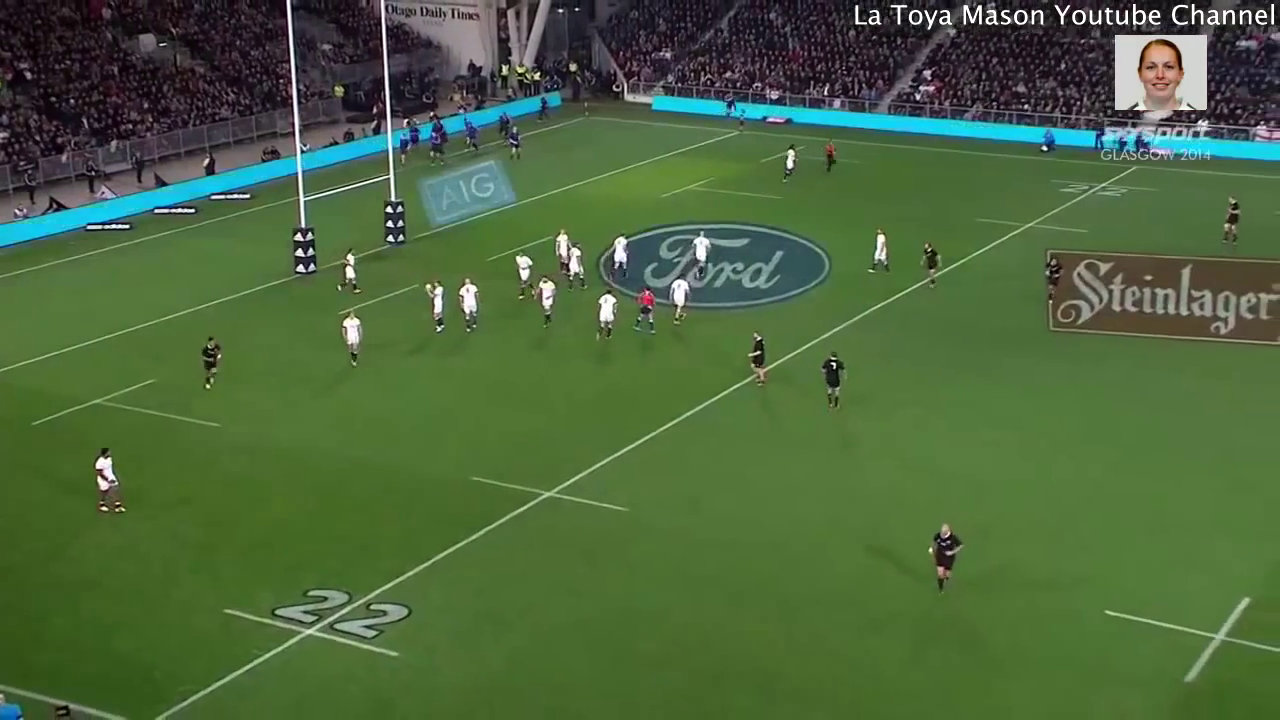10_metre: (1101, 589, 1280, 687)
ball: (422, 277, 434, 299)
player: (85, 441, 135, 520), (926, 515, 965, 608), (585, 282, 628, 354), (503, 243, 543, 305), (530, 268, 566, 335), (818, 348, 851, 421), (452, 272, 487, 339), (629, 278, 664, 344), (742, 326, 775, 395), (1212, 187, 1244, 257), (196, 331, 229, 396), (337, 305, 370, 370), (417, 274, 450, 337), (563, 239, 596, 299), (332, 245, 366, 297), (605, 229, 635, 286), (661, 272, 692, 327), (546, 225, 574, 281), (866, 223, 894, 277), (917, 238, 945, 291), (1041, 252, 1067, 308), (687, 226, 712, 280), (777, 143, 803, 186), (821, 135, 839, 173)
post: (282, 1, 416, 291)
